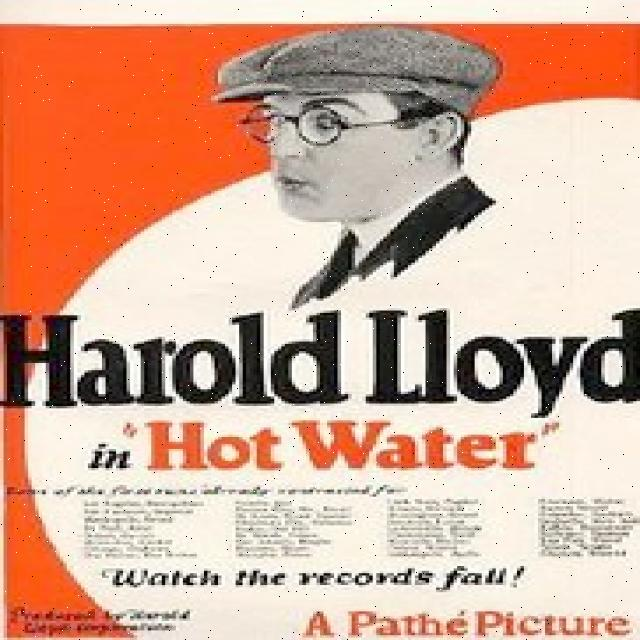movie-judul: (0, 303, 640, 481)
picture: (203, 20, 523, 301)
